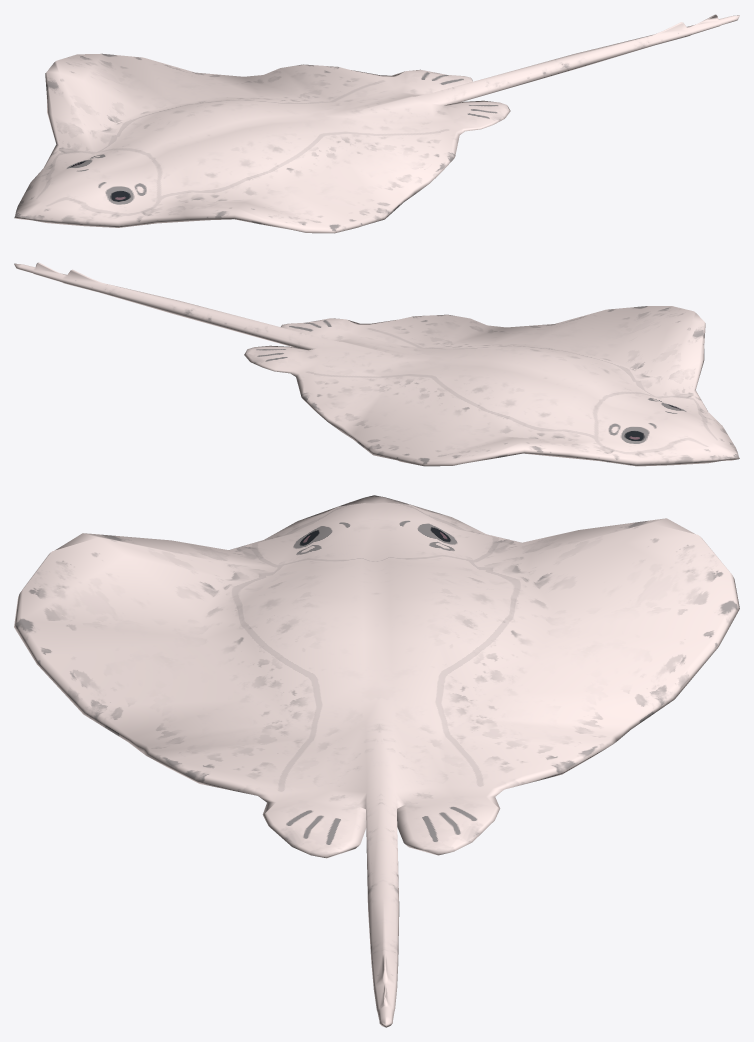
The model's file is deepSeaSkate_ShaderTest.fbx.
The picture shows the model from 3 angles, top to bottom: view 1: azimuth 30°, elevation 25°; view 2: azimuth 150°, elevation 25°; view 3: azimuth 270°, elevation 25°; orthographic projection. The views are drawn at different scales.
Parts seen in each view (by area): view 1: deepSeaSkate_temp.003; view 2: deepSeaSkate_temp.003; view 3: deepSeaSkate_temp.003.
Boxes of the visible parts, x1,y1,x2,y2 form: deepSeaSkate_temp.003: [14, 14, 739, 233]; deepSeaSkate_temp.003: [14, 262, 739, 466]; deepSeaSkate_temp.003: [14, 495, 739, 1027].
Size of the model in its own units: 490 by 34.96 by 268.
